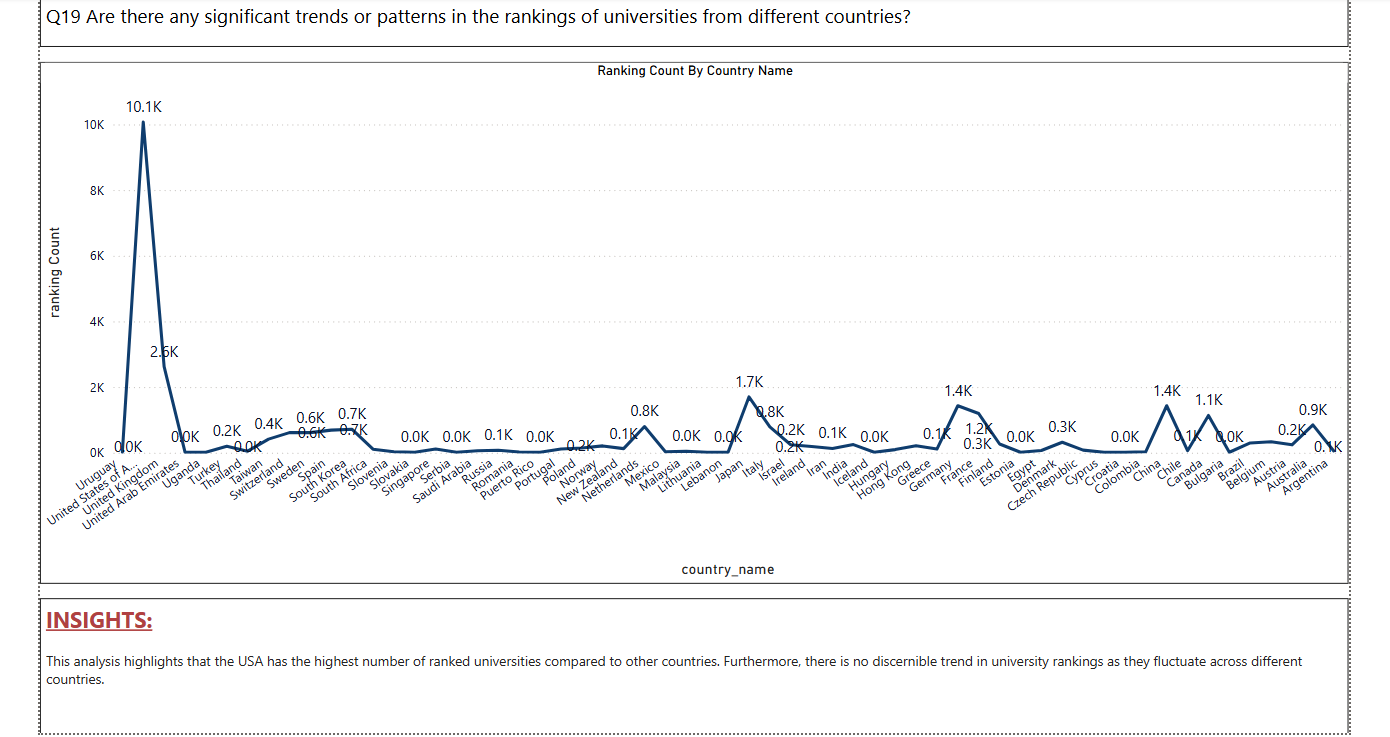

The page's visual inventory and layout, read from the dashboard file:
{"tool":"powerbi","page":{"name":"Que 19","canvas":[1280,720],"ordinal":10},"visuals":[{"type":"textbox","box":[0,0,1280.2,48.8],"z":0},{"type":"lineChart","title":" Ranking Count By Country Name","fields":{"Category":["country.country_name"],"Y":["CountNonNull(university_ranking_year.ranking_criteria_id)"]},"box":[0,64,1280.2,510.5],"z":1000},{"type":"textbox","box":[0,587.8,1280,133.1],"z":2000}]}

Visuals, with their boxes on the page's 1280x720 design canvas (x1, y1, x2, y2). These are canvas units, not pixel positions in the 1390x737 screenshot, which may show the page scaled, cropped or inside an application window:
textbox: [left=0, top=0, right=1280, bottom=49]
" Ranking Count By Country Name" lineChart: [left=0, top=64, right=1280, bottom=574]
textbox: [left=0, top=588, right=1280, bottom=721]
